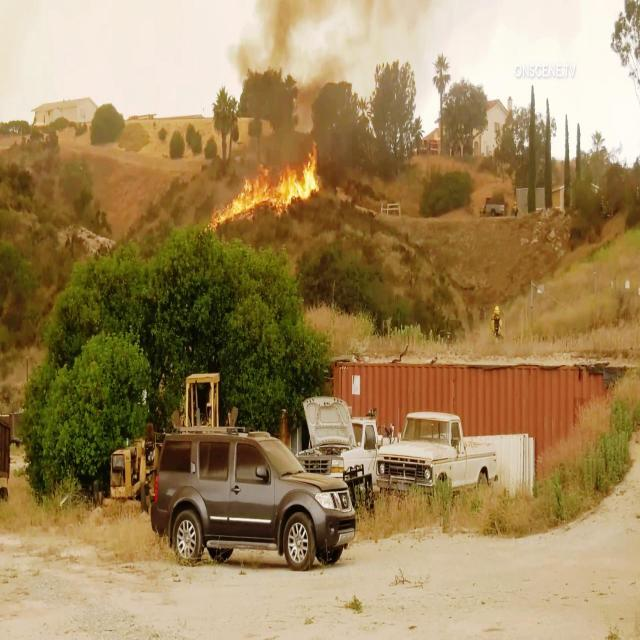Fire: (208, 150, 328, 230)
Smoke: (278, 0, 427, 57)
